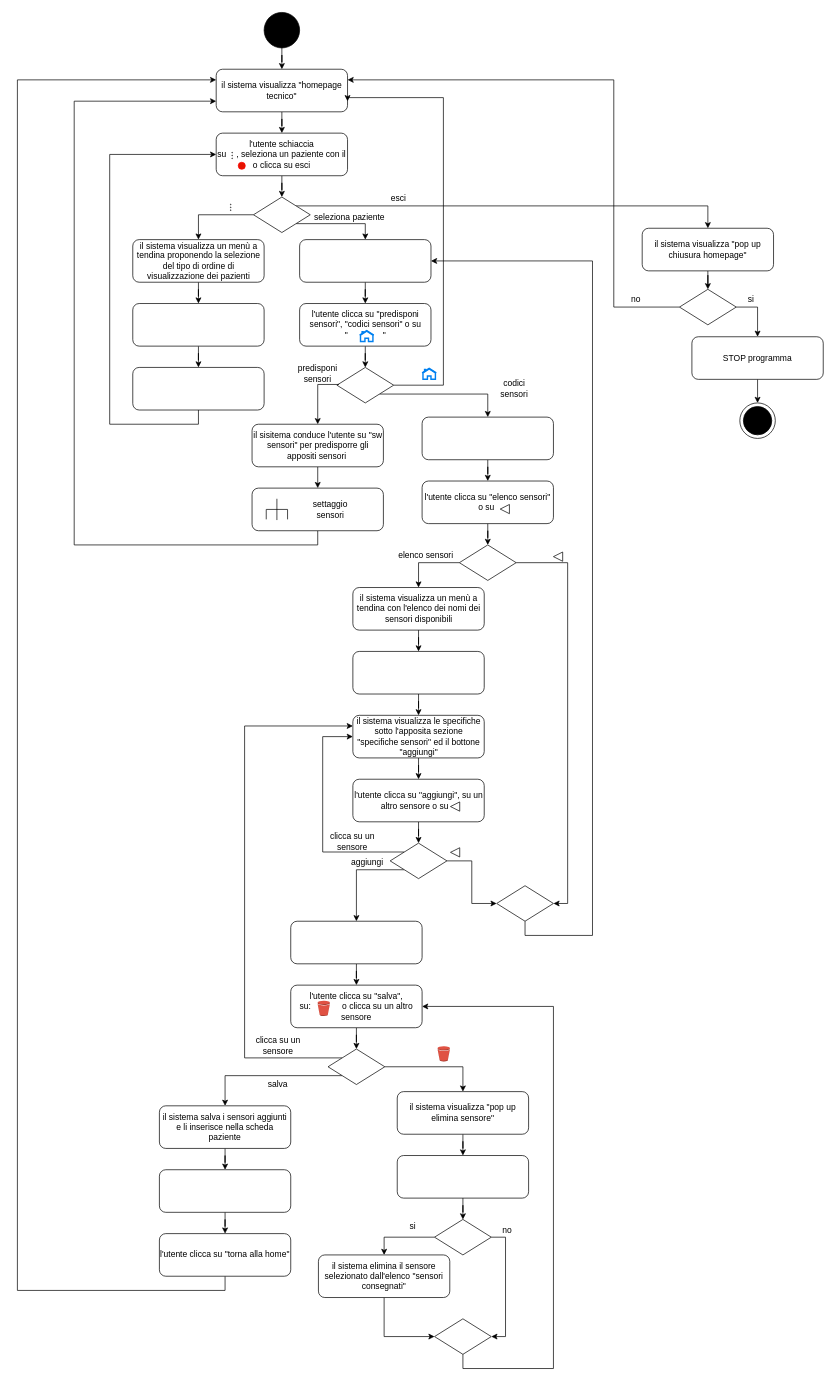
Some shapes in this 836 by 1387 pixel diagram are drawn without their labels. The centre of each missing label's shape, as x and y in pixels:
il sistema modifica l'ordine della lista sulla base delle scelte effettuate: the point at 198,388
il sistema visualizza "piano assistenziale tecnico 1": the point at 365,260
il sistema visualizza "piano assistenziale tecnico 2": the point at 487,438
il sistema visualizza il "pop up piano assistenziale salvato": the point at 225,1190
il sistema visualizza il sensore aggiunto sotto la sezione "sensori consegnati": the point at 356,942
l'utente clicca si o no: the point at 463,1176
l'utente clicca su un sensore: the point at 418,672
l'utente seleziona un ordine preferenziale: the point at 198,324
